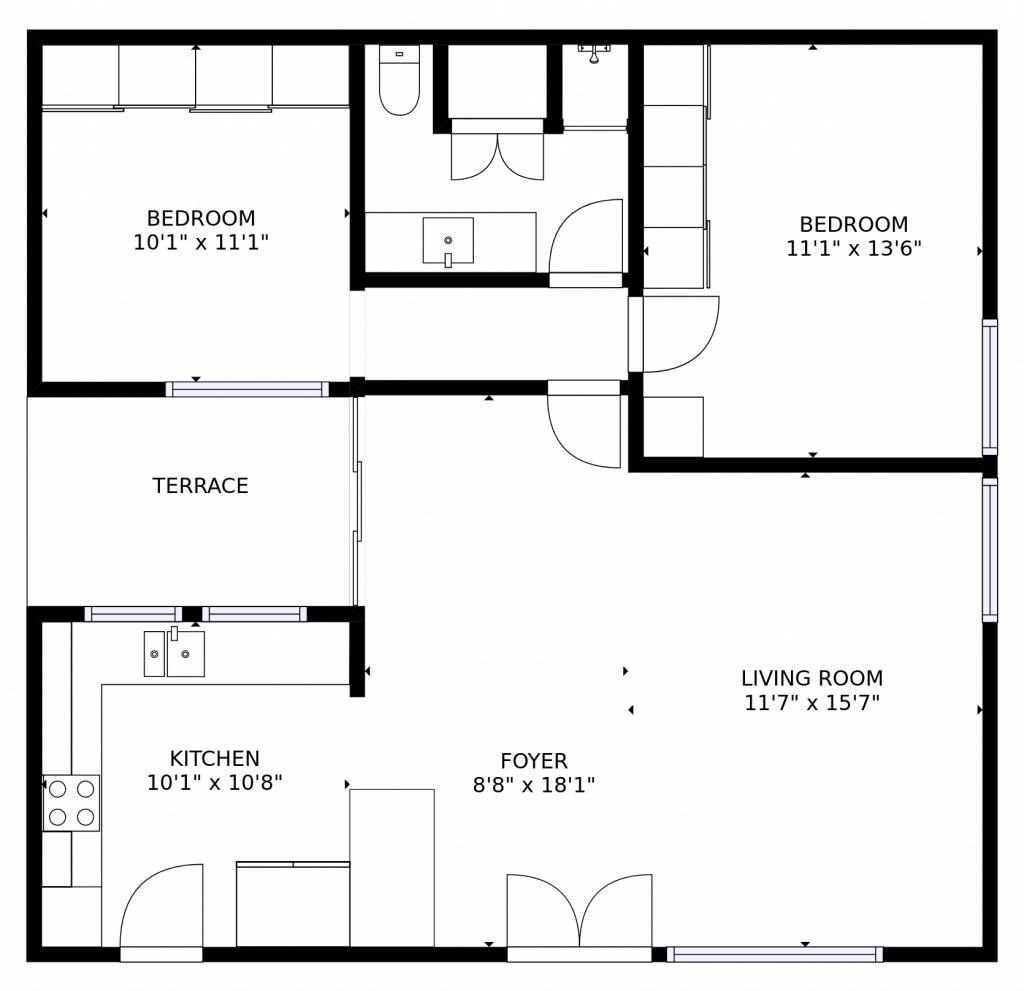room: (356, 463, 990, 951), (637, 40, 986, 464), (33, 610, 357, 956), (36, 40, 356, 384), (356, 37, 633, 280)
